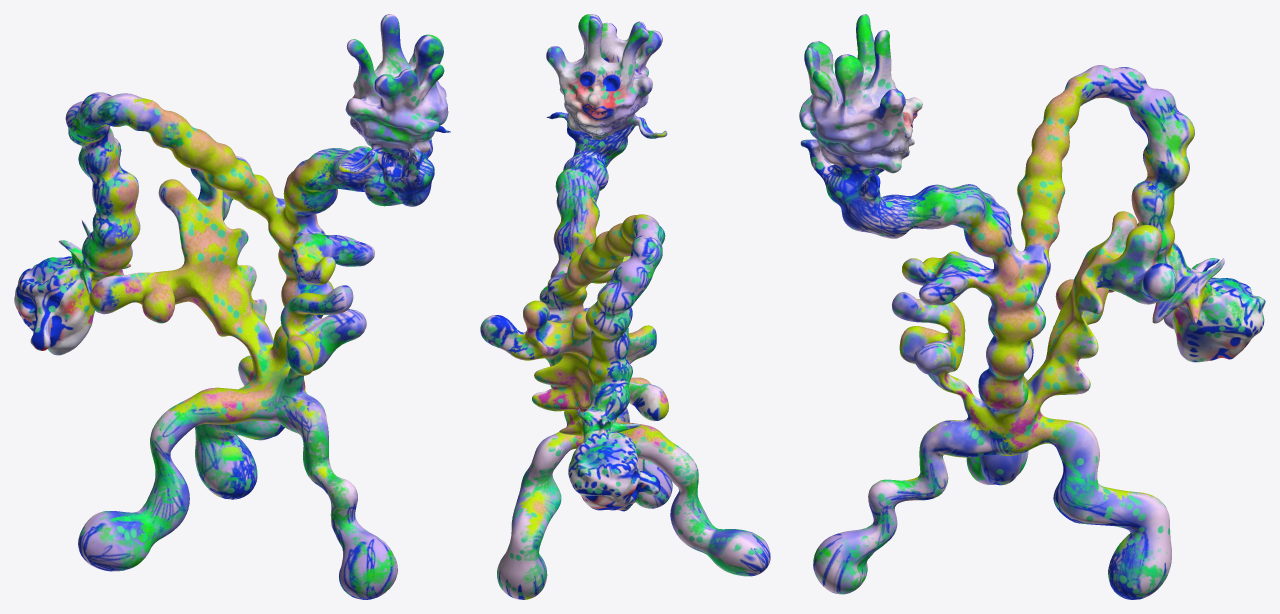
The model's file is shr-two-heads.glb.
3 renders of one model, left to right at view 1: azimuth 30°, elevation 25°; view 2: azimuth 150°, elevation 25°; view 3: azimuth 270°, elevation 25°, orthographic. The views are drawn at different scales.
Visible parts, largest first — view 1: geometry_0; view 2: geometry_0; view 3: geometry_0.
Part boxes in pixels (x1,y1,x2,y2): geometry_0: [14, 14, 450, 599]; geometry_0: [480, 14, 770, 599]; geometry_0: [799, 14, 1265, 599].
Size of the model in its own units: 0.5818 by 1 by 0.721.
Materials: 1 (1 with a texture image).
